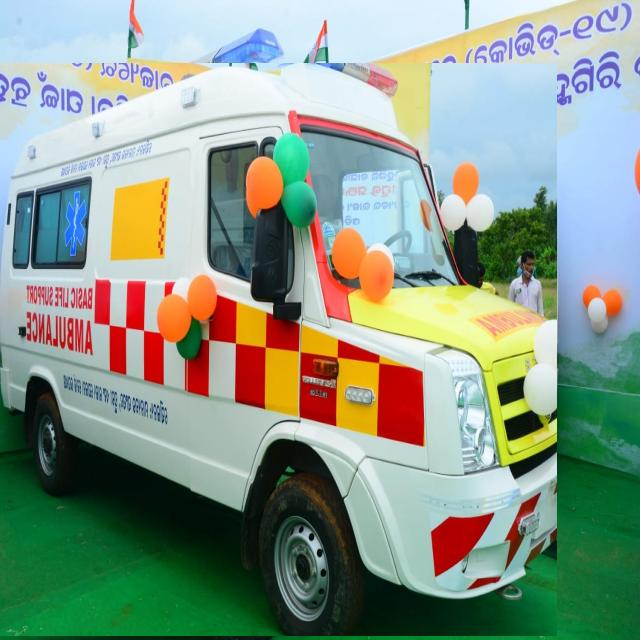emergency: (0, 64, 557, 636)
